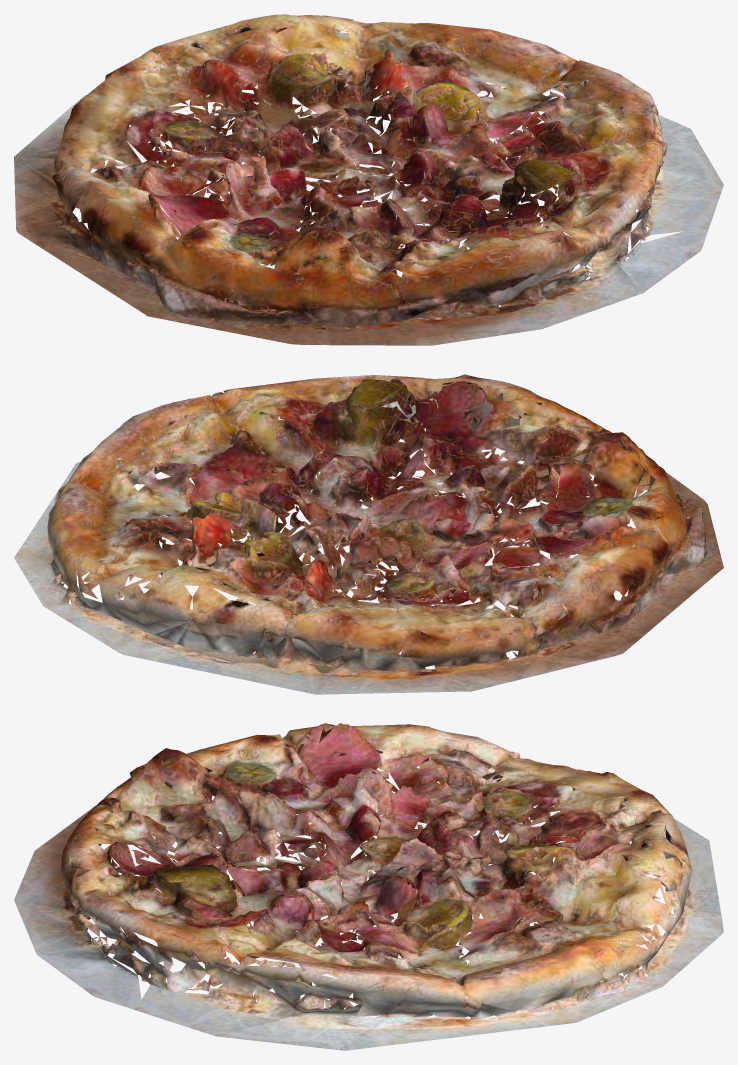
The model's file is food_pizza.glb.
The picture shows the model from 3 angles, top to bottom: view 1: azimuth 30°, elevation 25°; view 2: azimuth 150°, elevation 25°; view 3: azimuth 270°, elevation 25°; orthographic projection.
Parts seen in each view (by area): view 1: decMesh; view 2: decMesh; view 3: decMesh.
Boxes of the visible parts, <box> form: decMesh: <box>14,14,723,345</box>; decMesh: <box>14,374,723,694</box>; decMesh: <box>14,723,723,1050</box>.
Bounding box in the file's own units: 0.6861 × 0.0841 × 0.6884.
1 material, 1 textured.
